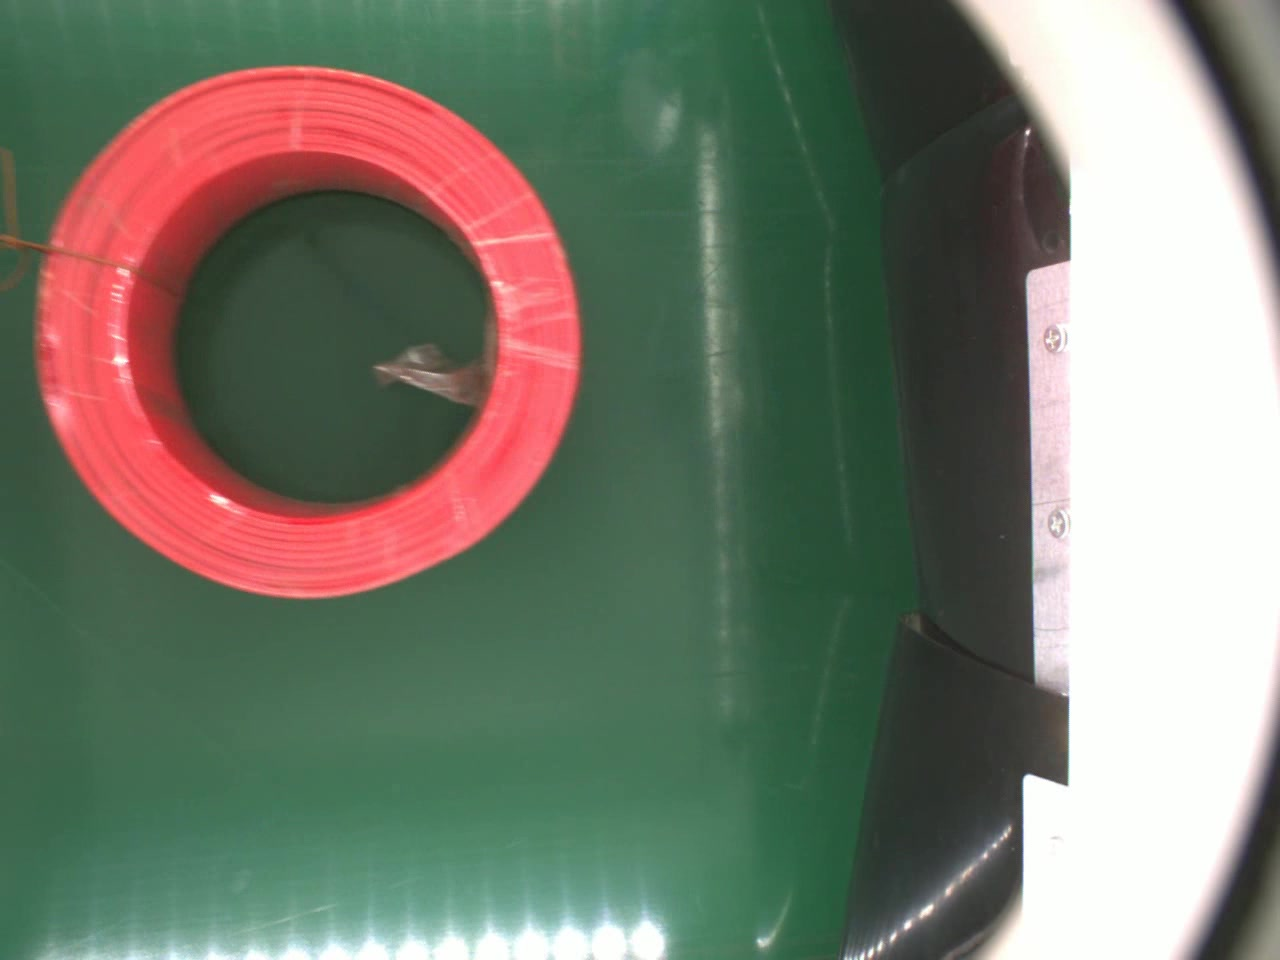red: (33, 64, 583, 601)
